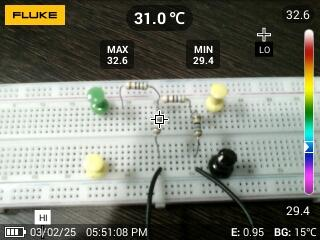resistor: (190, 111, 204, 139), (151, 111, 164, 136), (160, 93, 189, 104), (124, 80, 150, 92)
